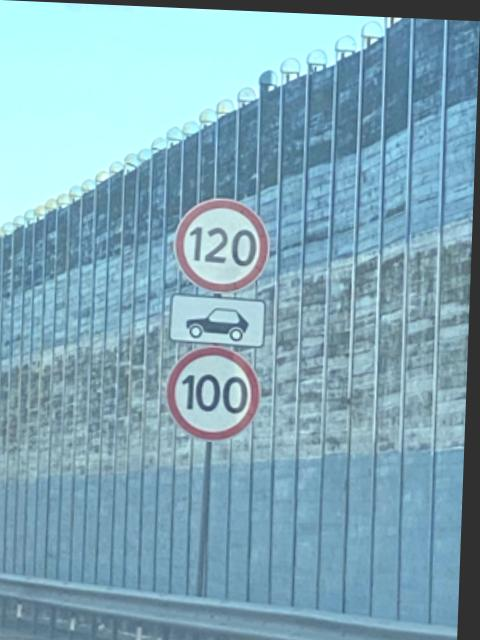limit100: (162, 330, 272, 450)
limit120: (167, 187, 278, 299)
